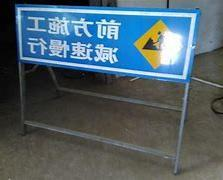sign: (12, 6, 200, 84)
